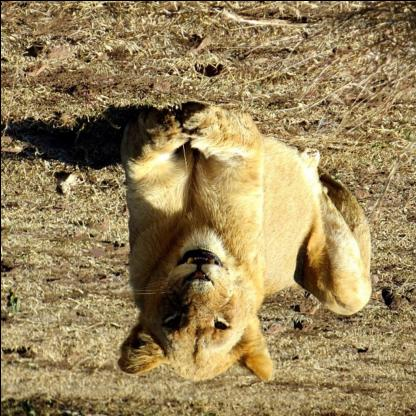lion: (110, 220, 274, 384)
